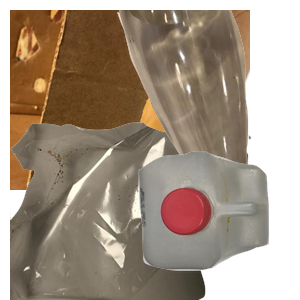cardboard: (10, 10, 250, 190)
glass: (115, 10, 300, 190)
plastic: (136, 149, 300, 300)
trash: (10, 120, 250, 300)
